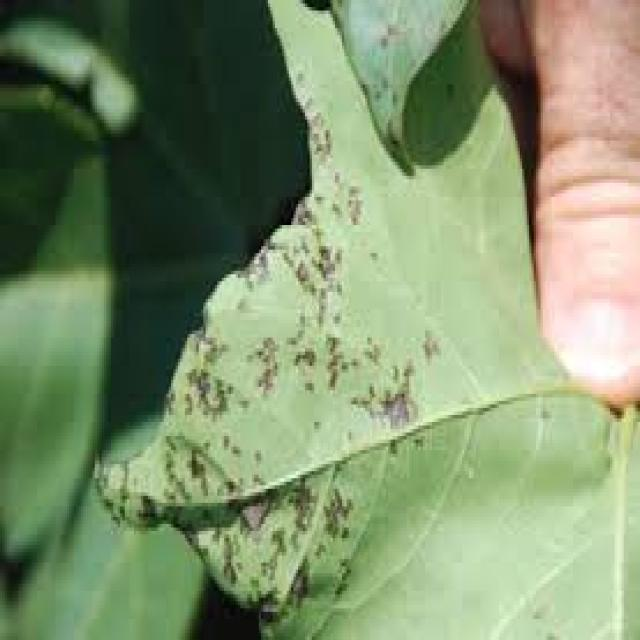Bacterial Blight: (158, 214, 395, 597)
